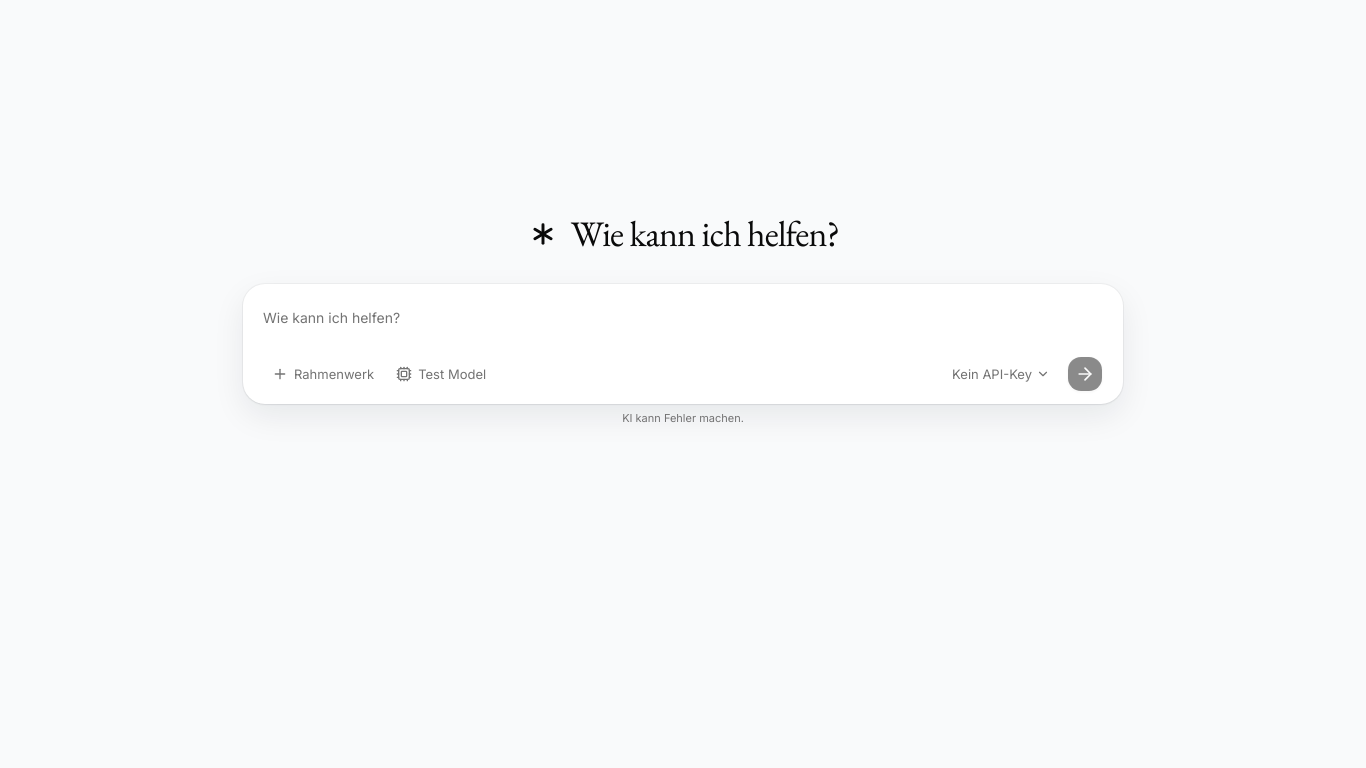
Test case: chat workspace › connects a key typed straight into the key popover and shows it as connected
Click the button "Kein API-Key" at [1001, 374], box [943,358,1059,390]
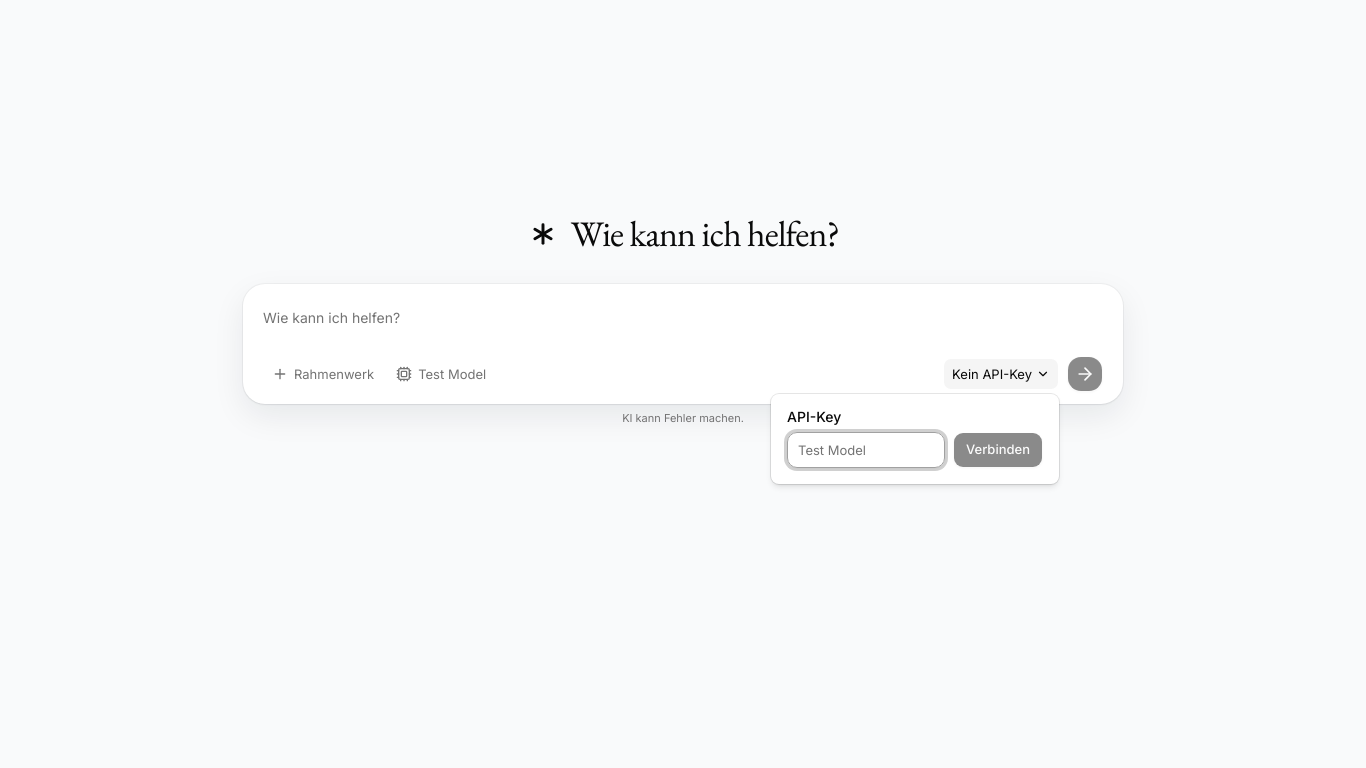
Type "sk-or-v1-secret-1234" into the password field labelled "API-Key" at [866, 450], box [787,432,945,468]
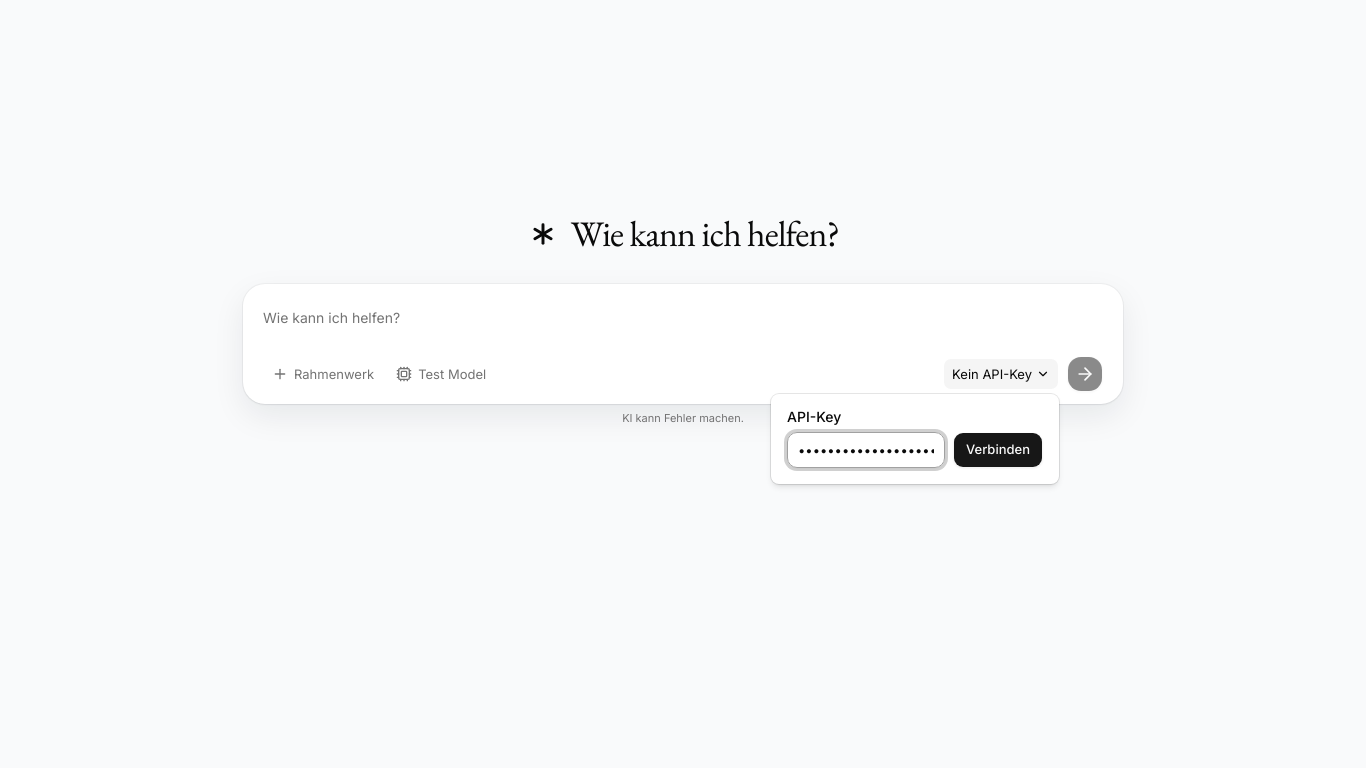
Click the button "Verbinden" at [998, 450], box [953,432,1043,468]
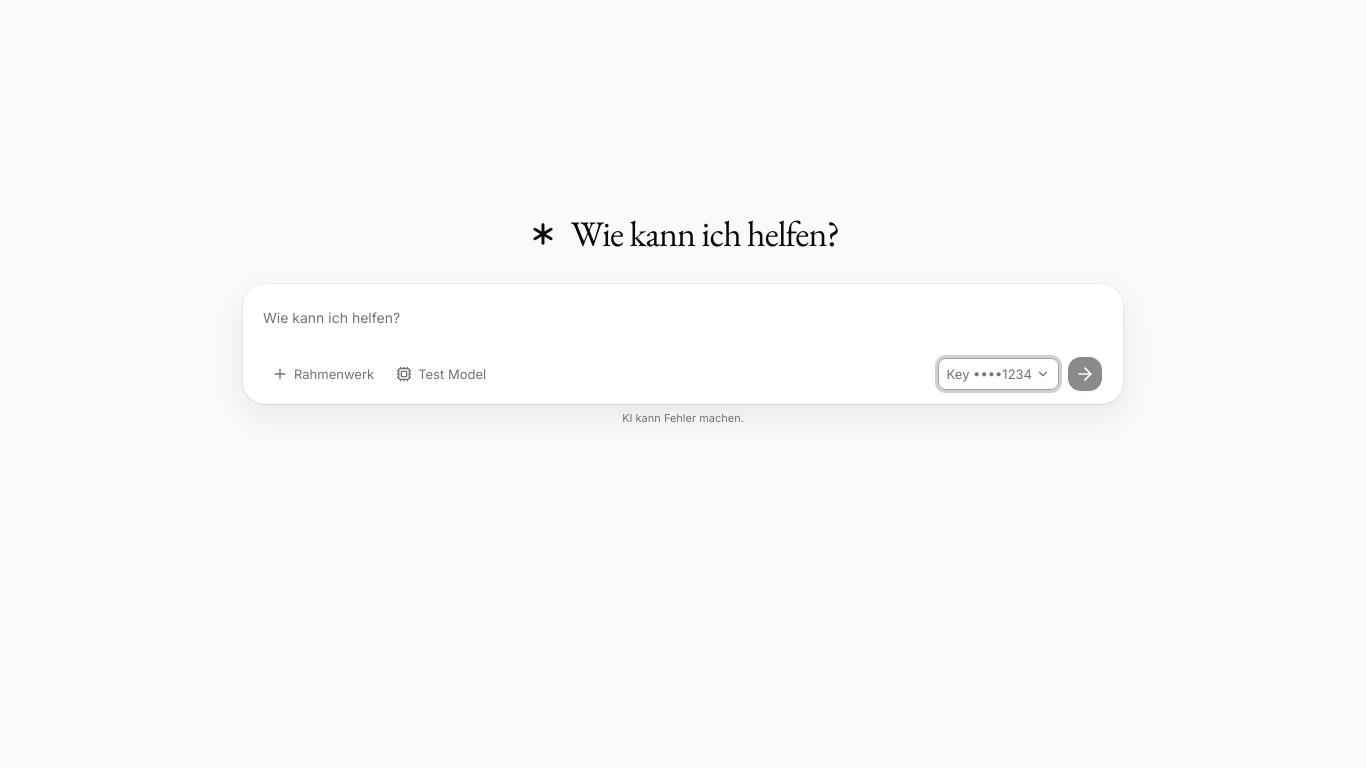
Expected: the text "Key ••••1234" is shown, [947,365,1032,384]
